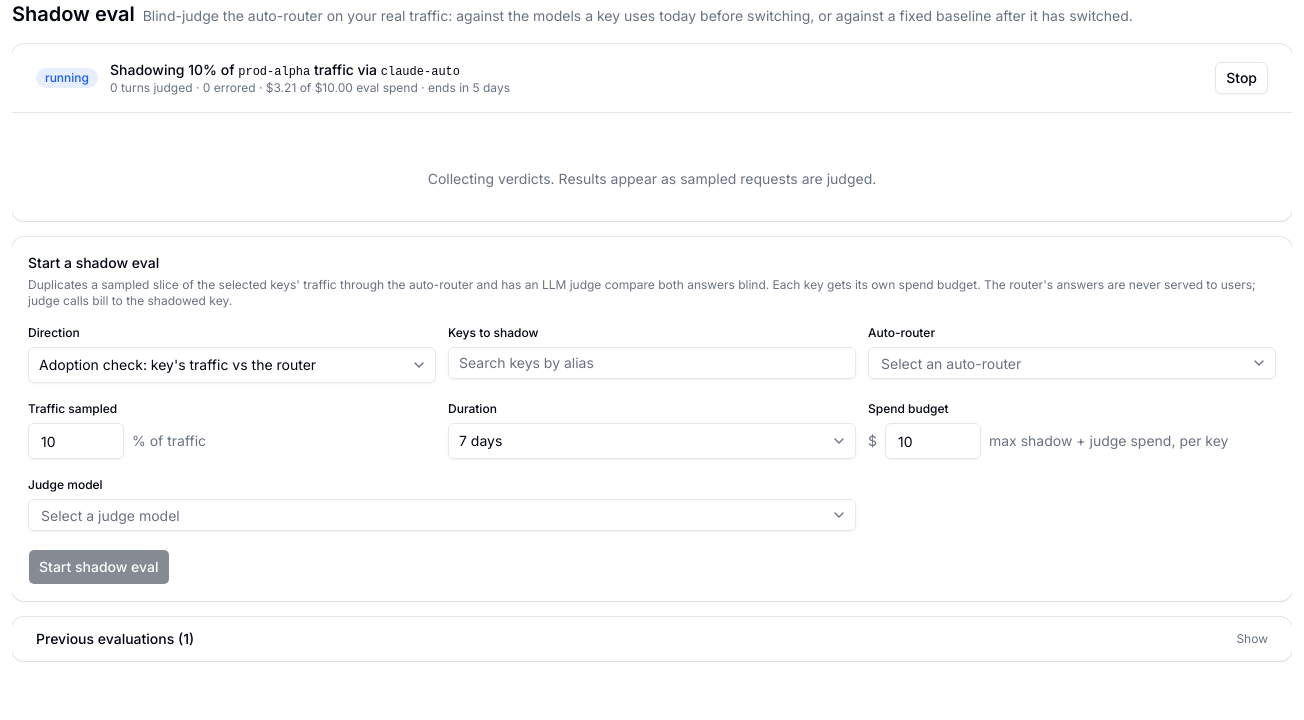
Test case: ShadowEvalSection › keeps an older job's verdicts reachable through the previous evaluations list
Expected: the text "SIMPLE" is not shown
Click the button "Previous evaluations (1) Show". click: (110, 638)
box: [12,617,1292,661]
(page scrolled)
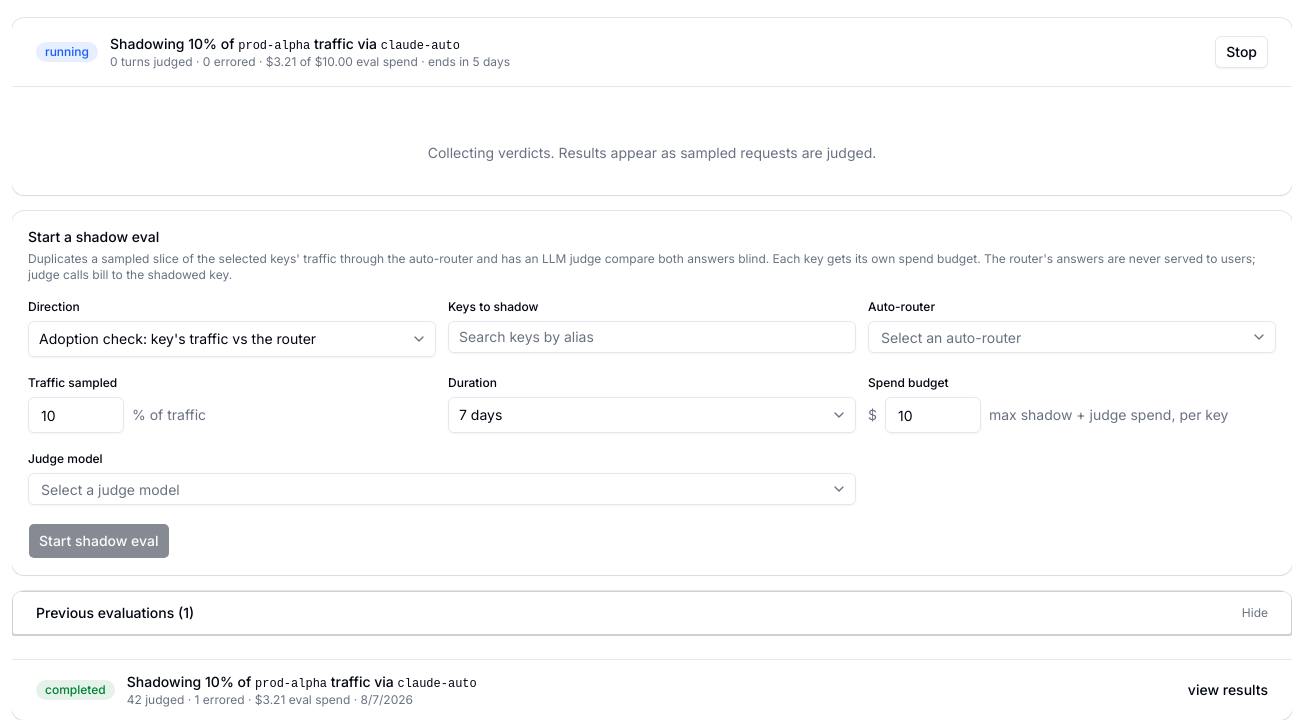
Expected: the text "view results" is shown, [1188,680,1268,700]
Click the button "10% of prod-alpha traffic via claude-auto". click: (75, 690)
box: [12,660,1292,719]
(page scrolled)
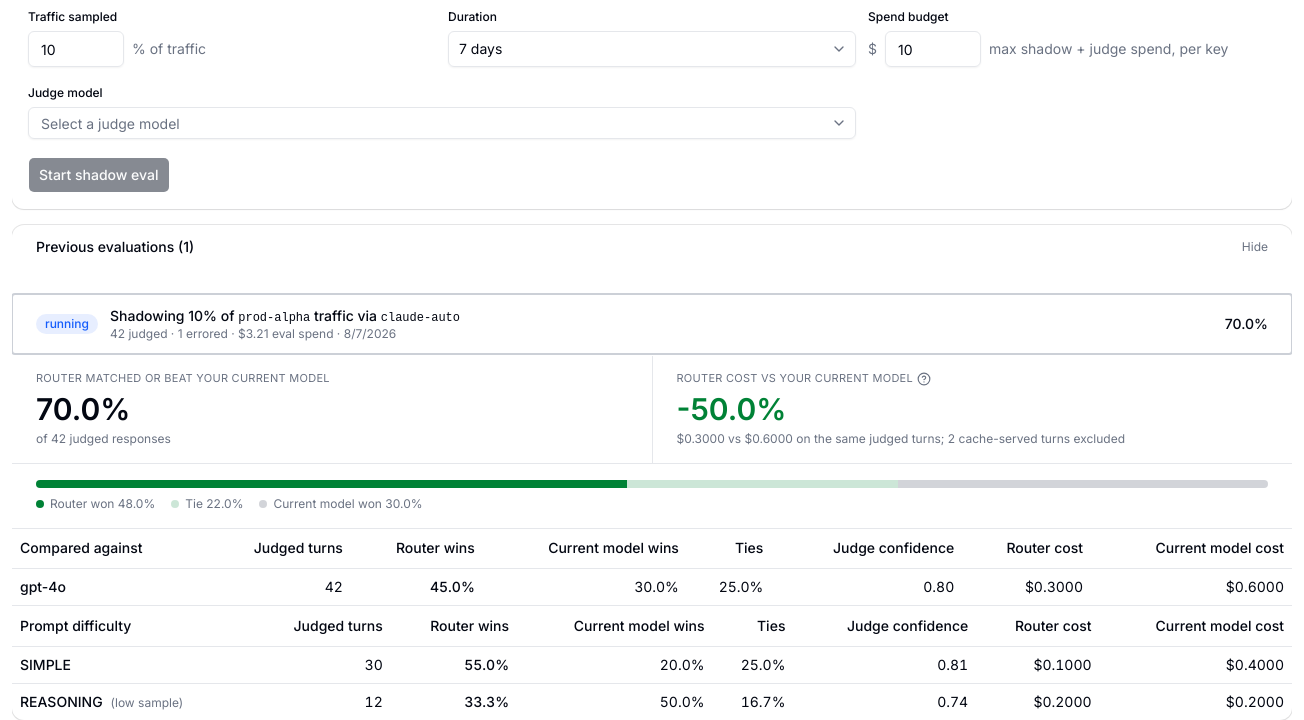
Expected: the text "SIMPLE" is shown, [12,646,251,683]
Expected: the text "REASONING" is shown, [20,693,103,710]
